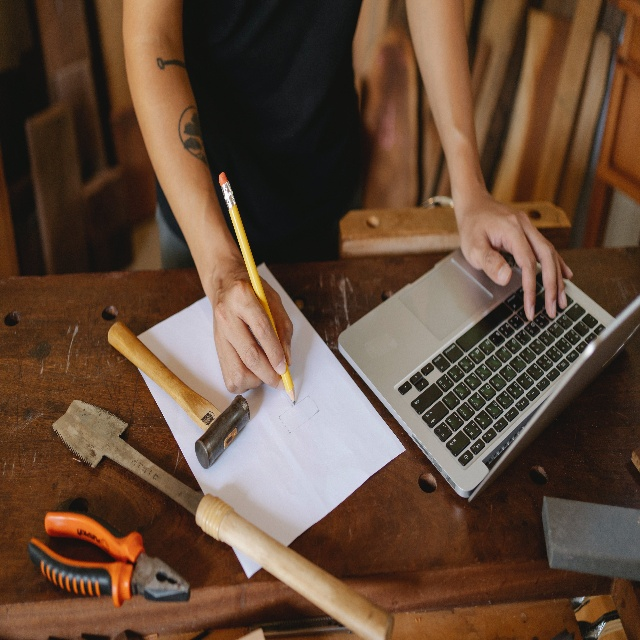Sin_guantes: (457, 187, 574, 320), (212, 258, 294, 394)
